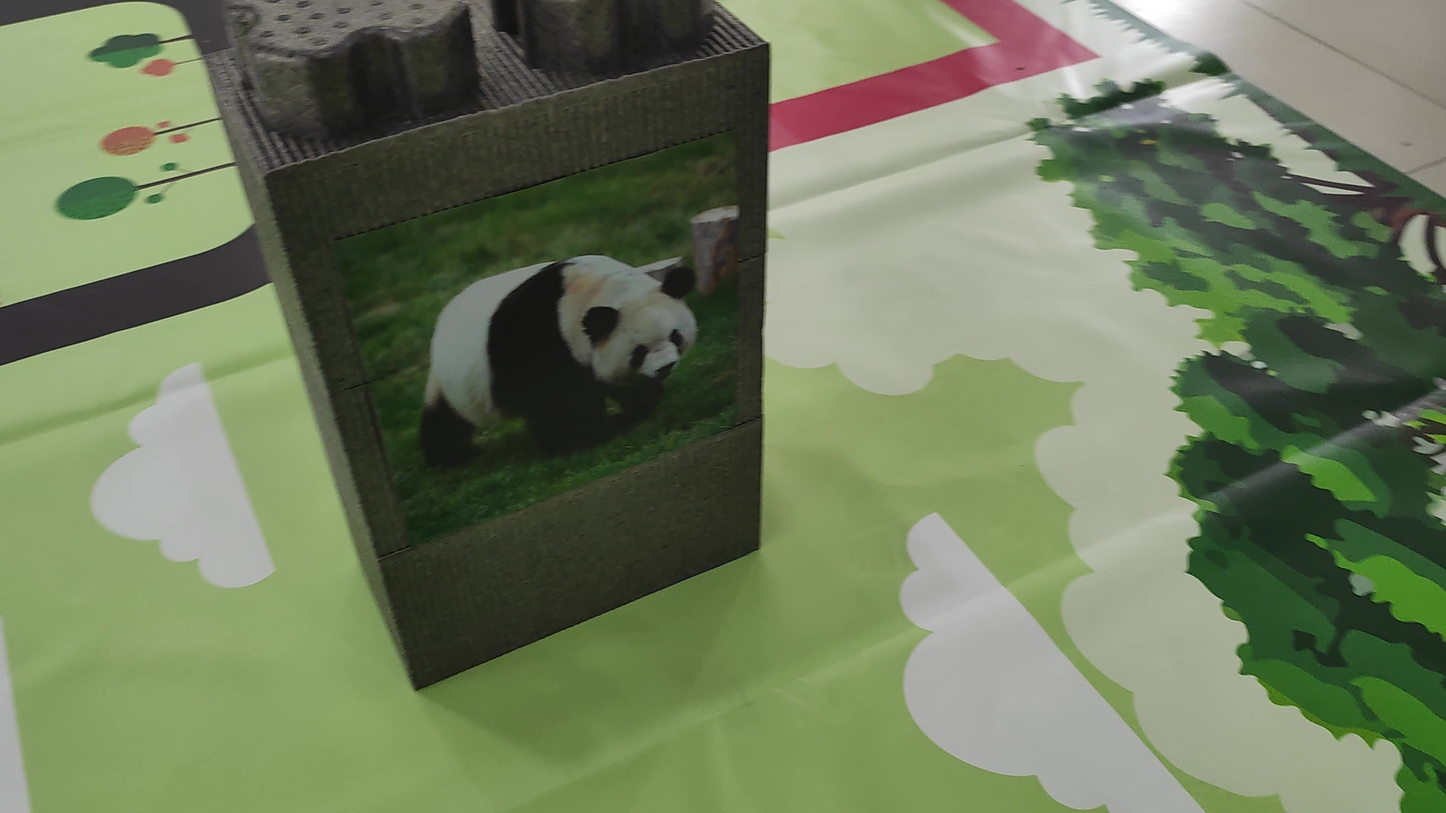panda: (422, 254, 699, 480)
